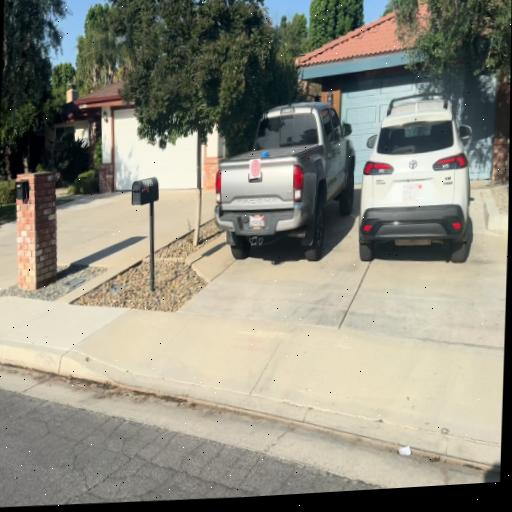bullseye: (250, 159, 261, 178)
